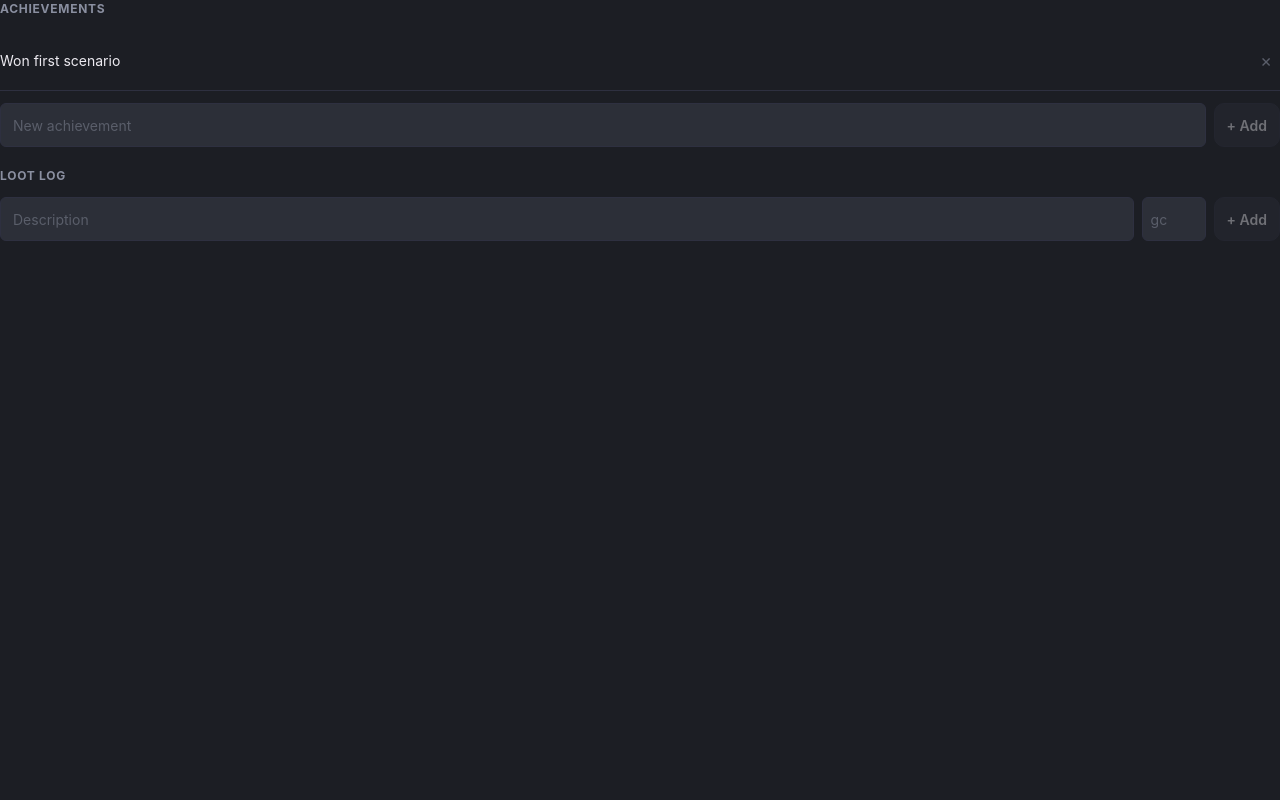
Test case: PostGameRecordsPanel › cancelling delete achievement keeps the list unchanged
Step 1. Click the button named "delete achievement: won first scenario" → (1266, 60), box [1252,38,1279,82]
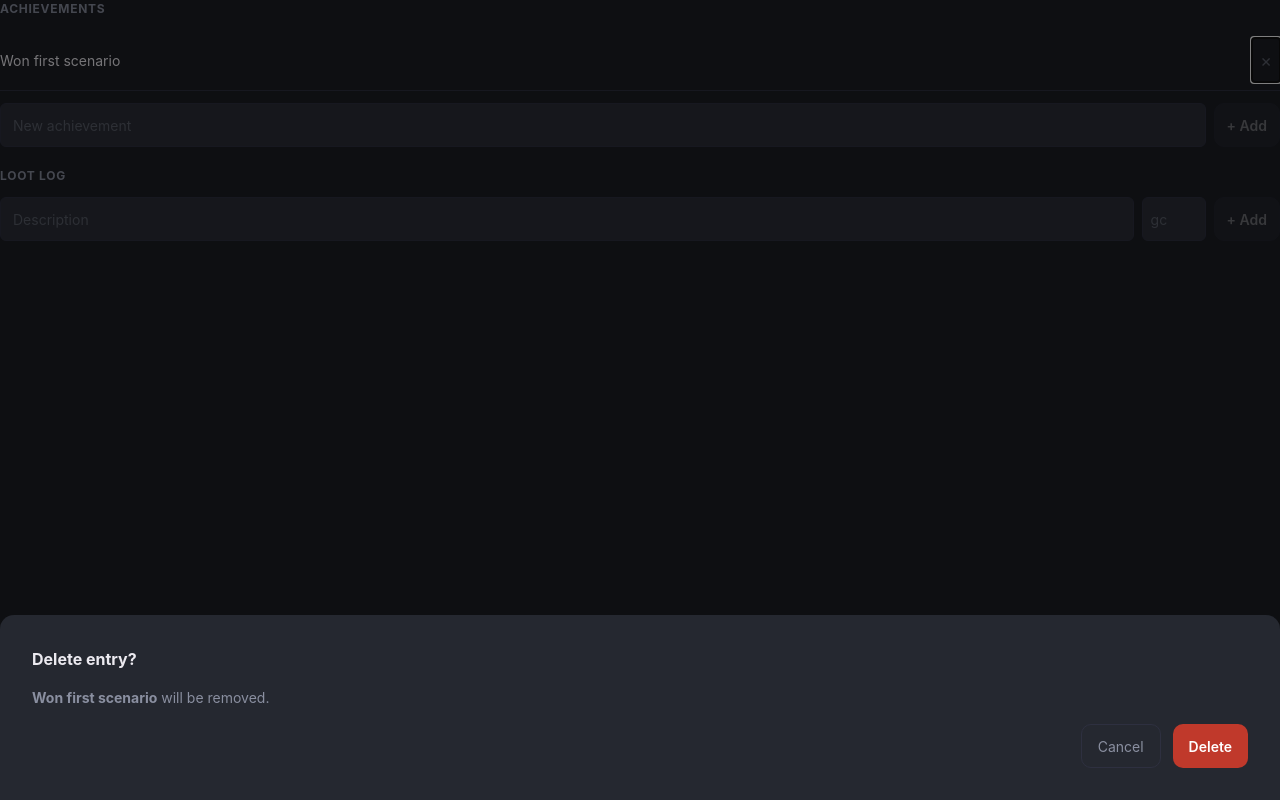
Step 2. Click the button "Cancel" → (1121, 746), box [1081,724,1161,768]
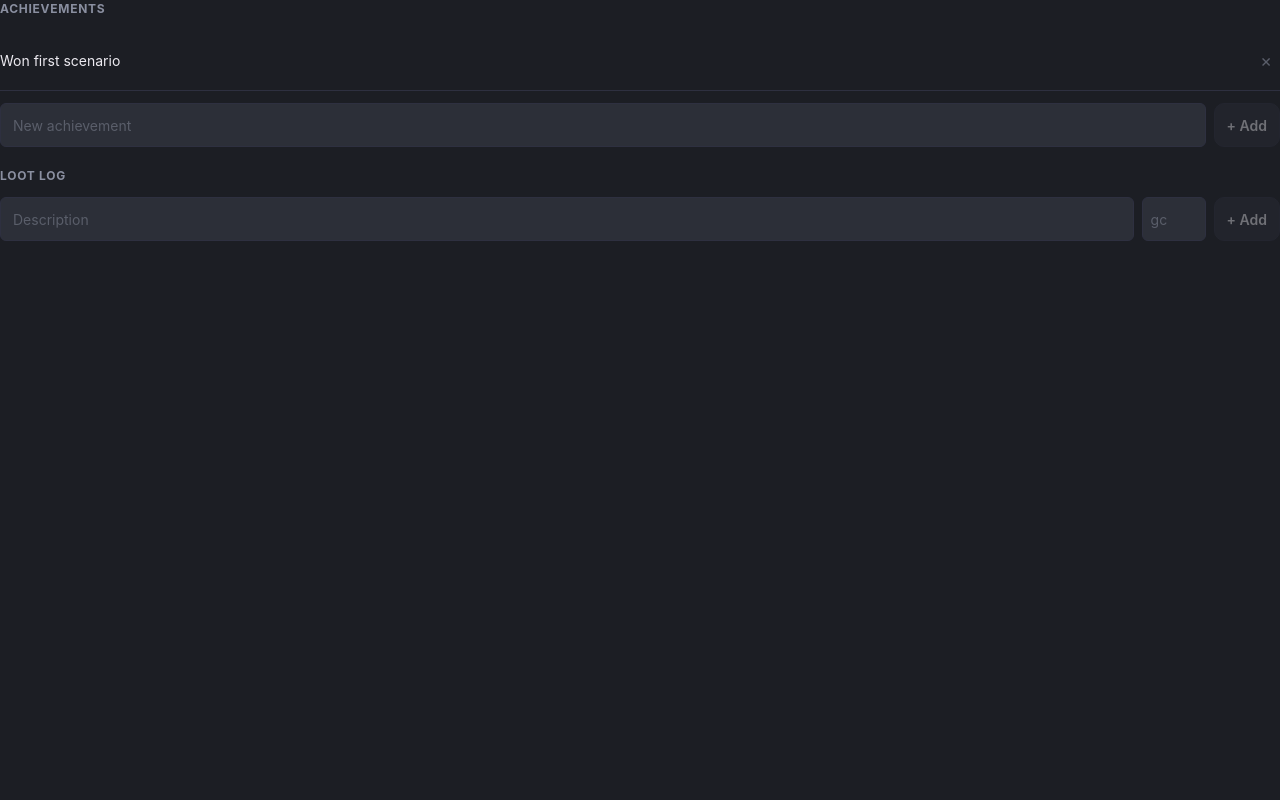
Result: the dialog is gone
